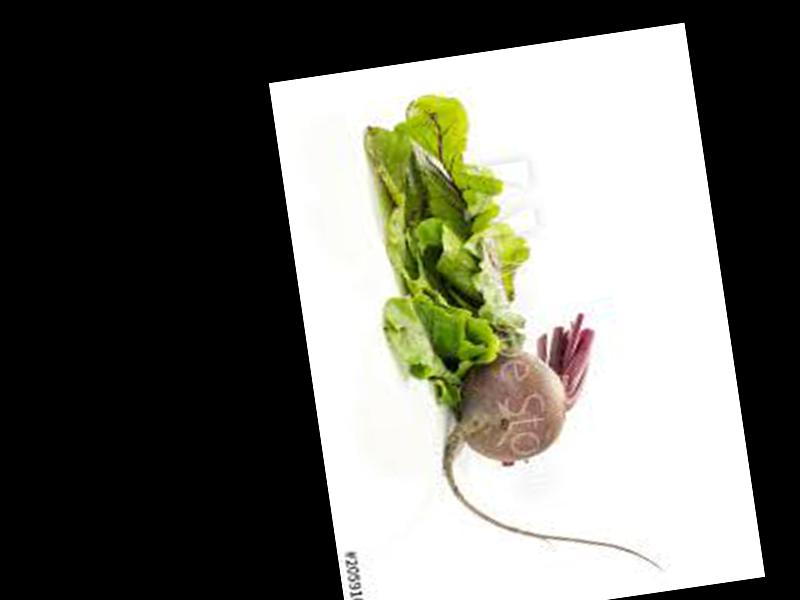Beet: (423, 303, 664, 600)
